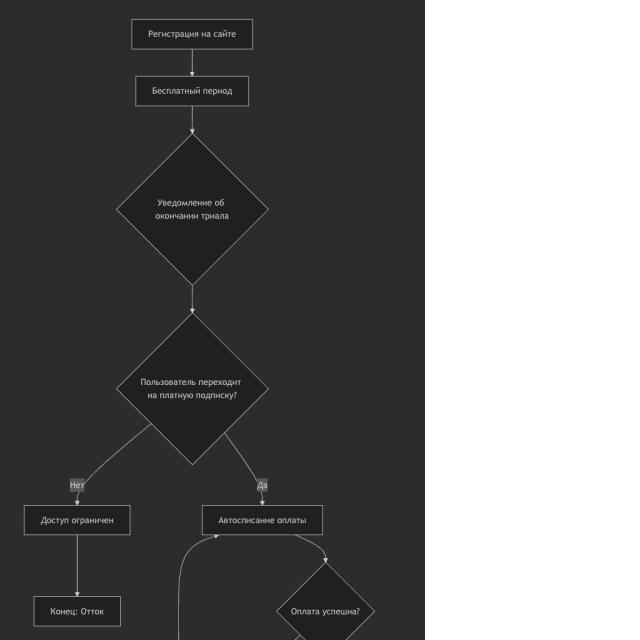arrow: (85, 424, 151, 484), (224, 432, 268, 505), (296, 535, 328, 562), (72, 536, 84, 597), (187, 284, 199, 314), (186, 51, 198, 75), (189, 107, 196, 134)
diamond: (118, 134, 267, 284), (118, 314, 266, 463)
rectangle: (202, 505, 323, 535), (132, 19, 253, 49), (135, 77, 248, 106), (24, 505, 130, 535), (34, 596, 120, 626)
text_region: (66, 479, 88, 492), (253, 479, 273, 490)
